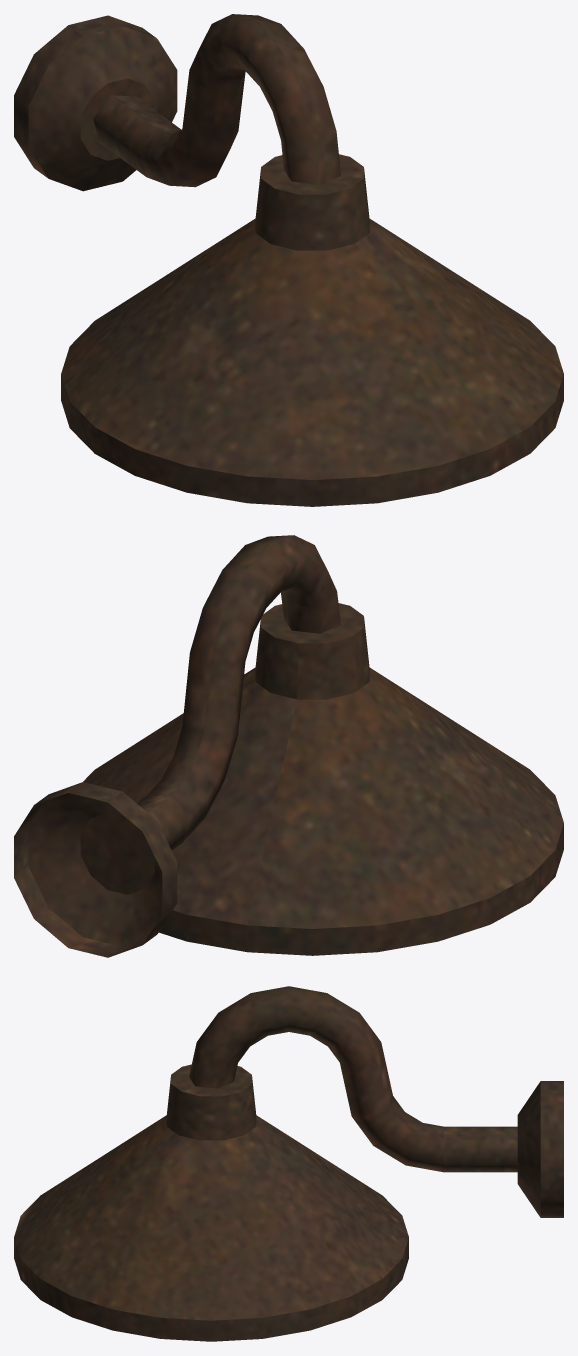
The model's file is lamp_mx_3_off.dae.
3 views of the same model, one above another, from view 1: azimuth 30°, elevation 25°; view 2: azimuth 150°, elevation 25°; view 3: azimuth 270°, elevation 25° (orthographic). The views are drawn at different scales.
Parts seen in each view (by area): view 1: lamp_mx_3_off; view 2: lamp_mx_3_off; view 3: lamp_mx_3_off.
Boxes of the visible parts, x1,y1,x2,y2 form: lamp_mx_3_off: [14, 14, 563, 506]; lamp_mx_3_off: [14, 535, 563, 957]; lamp_mx_3_off: [14, 986, 563, 1341].
Size of the model in its own units: 0.51 by 0.71 by 0.418.
Materials: 2 (2 with a texture image).
